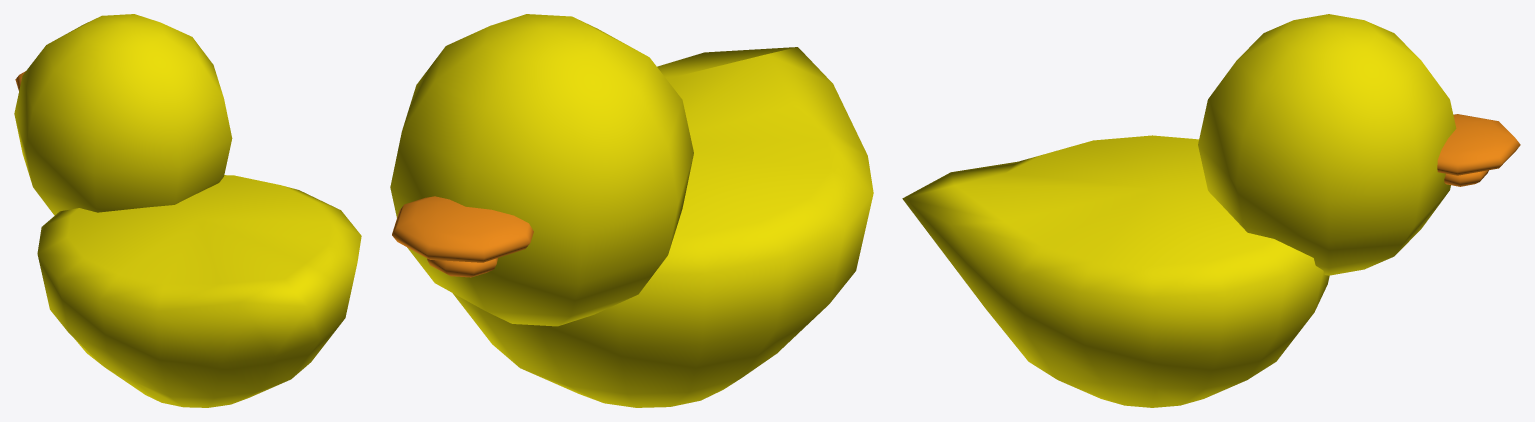
The model's file is Duck.fbx.
3 views of the same model, side by side, from view 1: azimuth 30°, elevation 25°; view 2: azimuth 150°, elevation 25°; view 3: azimuth 270°, elevation 25° (orthographic). The views are drawn at different scales.
Parts seen in each view (by area): view 1: Sphere, Sphere.001; view 2: Sphere, Sphere.001, Sphere.002, Sphere.003; view 3: Sphere, Sphere.001, Sphere.002.
Boxes of the visible parts, <box> form: Sphere: <box>37,175,361,407</box>; Sphere.001: <box>14,14,232,215</box>; Sphere: <box>452,47,873,407</box>; Sphere.001: <box>390,14,693,326</box>; Sphere.002: <box>392,196,533,262</box>; Sphere.003: <box>427,258,497,277</box>; Sphere: <box>902,135,1329,407</box>; Sphere.001: <box>1198,14,1456,275</box>; Sphere.002: <box>1437,114,1520,175</box>.
Size of the model in its own units: 200 by 212 by 326.
